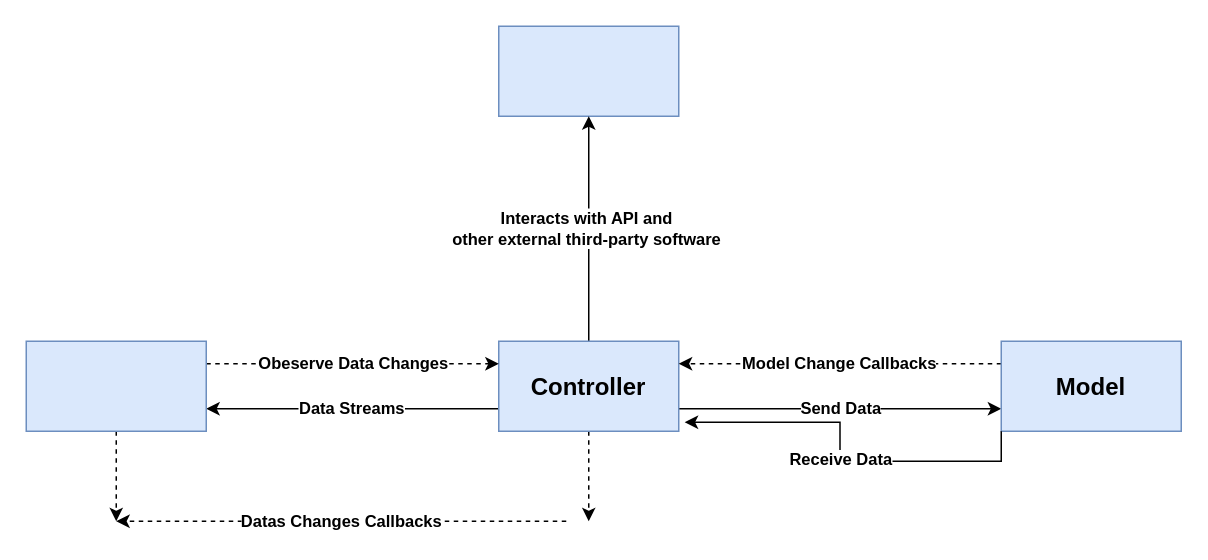
This 1208x560 diagram has some shape labels left out. The centre of each missing label's shape, as x and y in pixels:
"Service" goes at (x=588, y=70).
"View" goes at (x=115, y=385).
